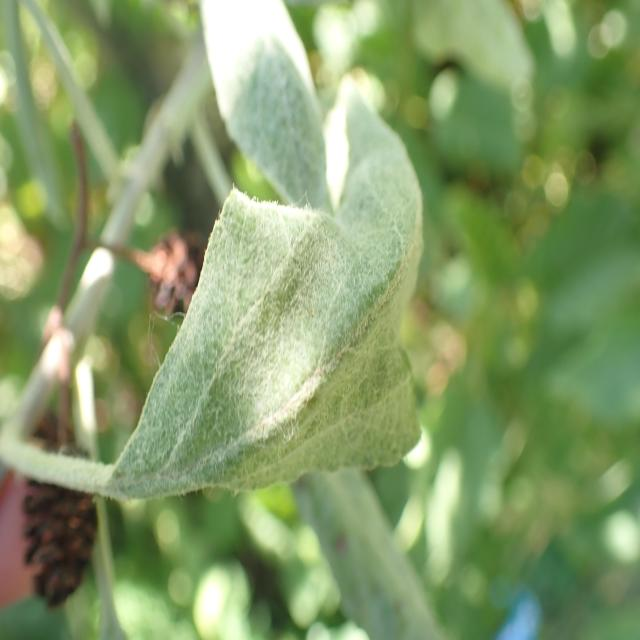Powdery_mildew: (100, 80, 450, 540), (182, 0, 343, 208), (287, 452, 448, 640)
